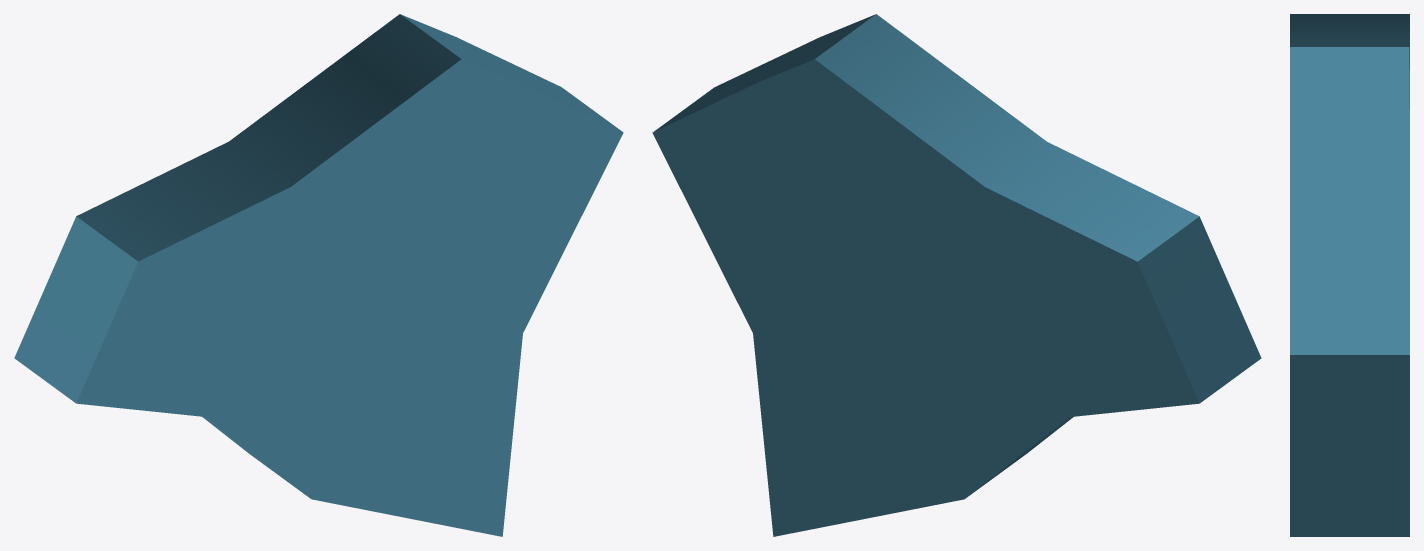
File: NexusA_Trigger_26.fbx
3 renders of one model, left to right at view 1: azimuth 30°, elevation 25°; view 2: azimuth 150°, elevation 25°; view 3: azimuth 270°, elevation 25°, orthographic. The views are drawn at different scales.
Visible parts, largest first — view 1: pCube30; view 2: pCube30; view 3: pCube30.
Boxes of the visible parts, left/top/right/bottom form: pCube30: left=14, top=14, right=623, bottom=536; pCube30: left=652, top=14, right=1261, bottom=536; pCube30: left=1290, top=14, right=1409, bottom=536.
Size of the model in its own units: 48.63 by 41.41 by 9.54.
